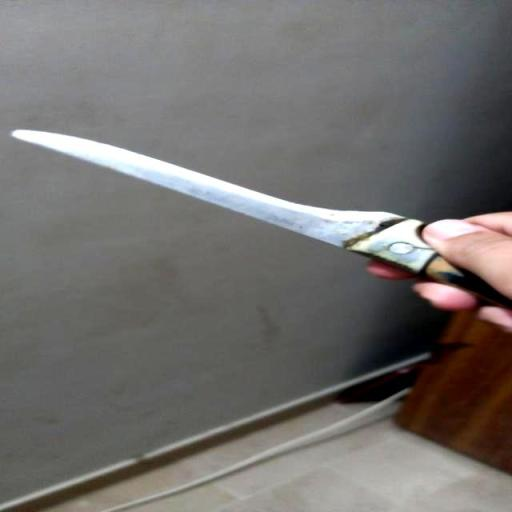knife: (0, 127, 509, 331)
